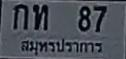7: (93, 5, 106, 31)
8: (78, 5, 90, 30)
A01: (12, 3, 28, 29)
A23: (32, 3, 47, 29)
SPK: (20, 36, 105, 57)
